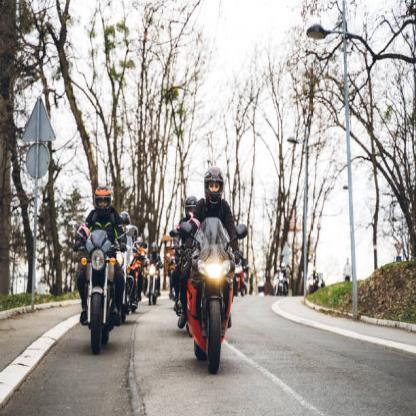Motorcycle: (176, 210, 241, 371), (79, 220, 120, 349)
